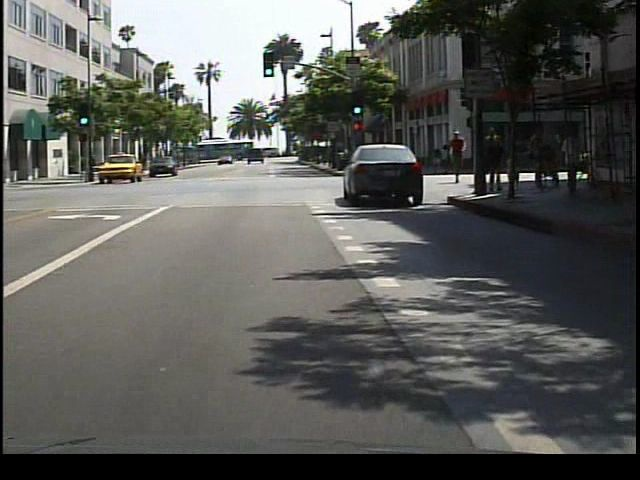person: (448, 129, 471, 189)
